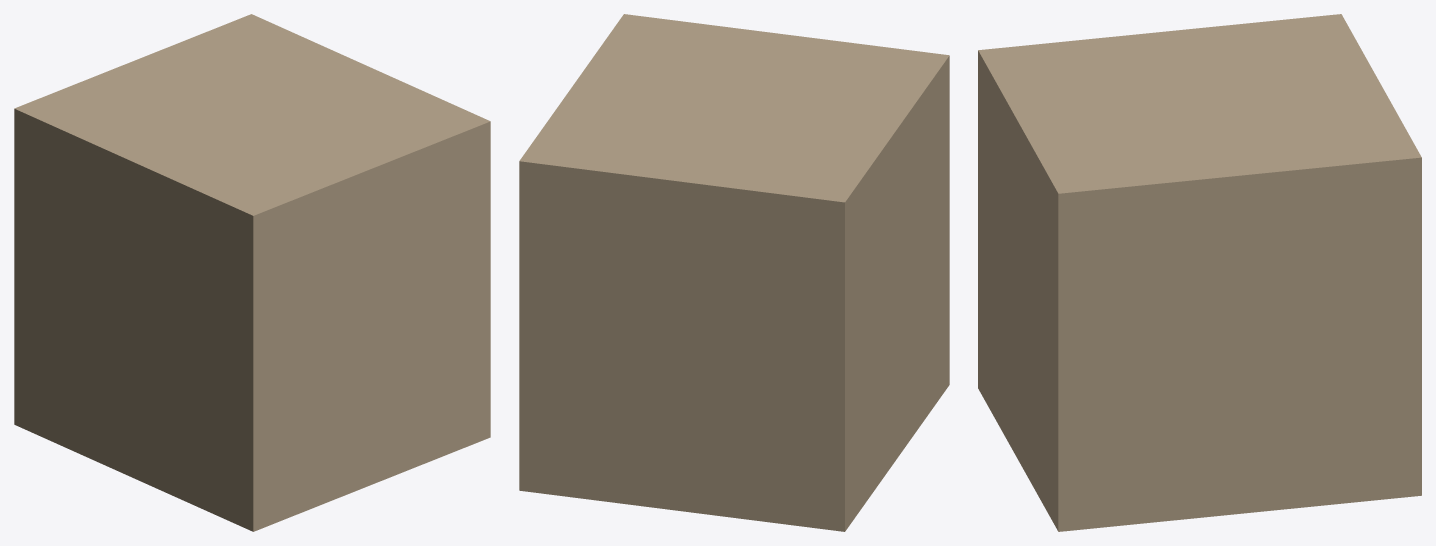
File: bld_99867682.dae
The picture shows the model from 3 angles, left to right: view 1: azimuth 30°, elevation 25°; view 2: azimuth 150°, elevation 25°; view 3: azimuth 270°, elevation 25°; orthographic projection. The views are drawn at different scales.
Parts seen in each view (by area): view 1: bld_99867682; view 2: bld_99867682; view 3: bld_99867682.
Boxes of the visible parts, x1,y1,x2,y2 form: bld_99867682: (14,14,490,531); bld_99867682: (519,14,949,531); bld_99867682: (978,14,1421,531).
Size of the model in its own units: 9.12 by 9.51 by 8.
